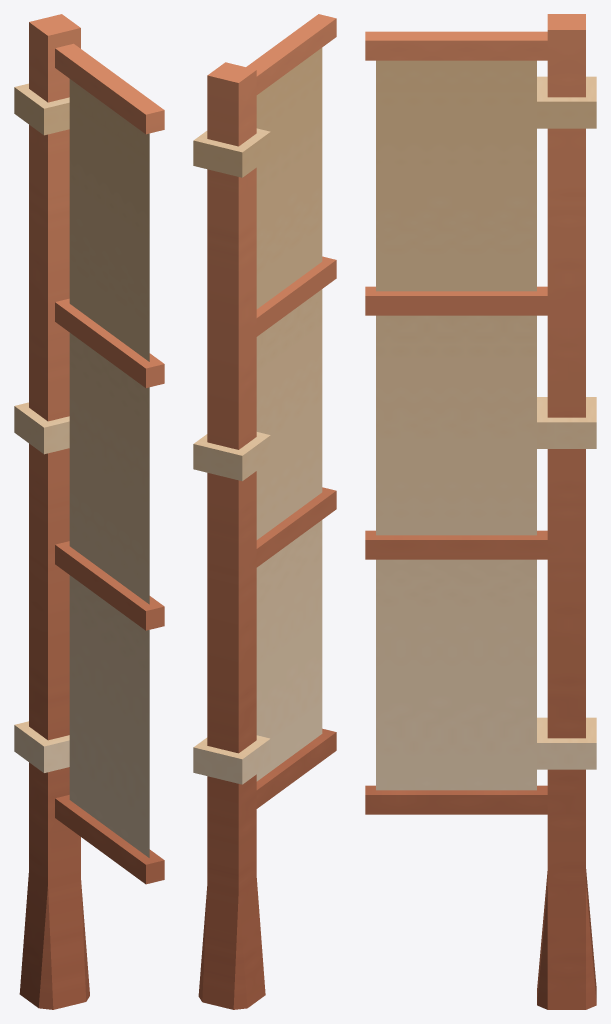
File: blade.fbx
The picture shows the model from 3 angles, left to right: view 1: azimuth 30°, elevation 25°; view 2: azimuth 150°, elevation 25°; view 3: azimuth 270°, elevation 25°; orthographic projection. The views are drawn at different scales.
Visible parts, largest first — view 1: blade; view 2: blade; view 3: blade.
Part boxes in pixels (x1,y1,x2,y2): blade: (14,14,164,1009); blade: (193,14,336,1009); blade: (365,14,596,1009).
Bounding box in the file's own units: 0.111 × 0.4304 × 2.
